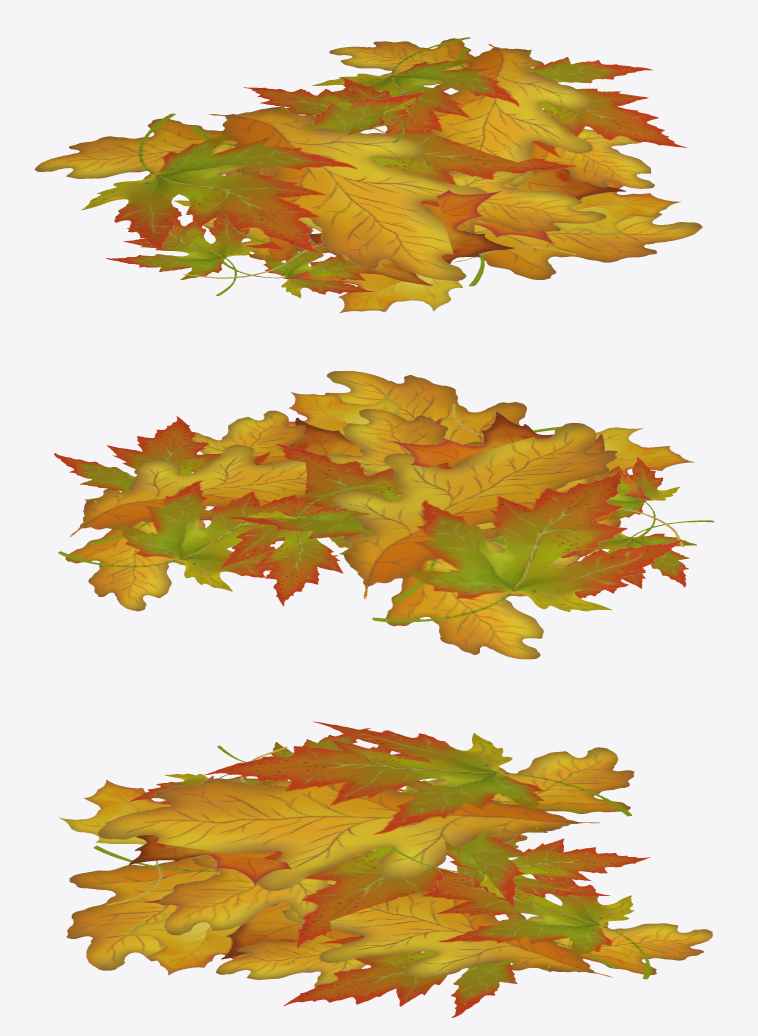
The model's file is dead_leaf_tas_petit.fbx.
The picture shows the model from 3 angles, top to bottom: view 1: azimuth 30°, elevation 25°; view 2: azimuth 150°, elevation 25°; view 3: azimuth 270°, elevation 25°; orthographic projection. The views are drawn at different scales.
Visible parts, largest first — view 1: dead_leaf_tas_petit; view 2: dead_leaf_tas_petit; view 3: dead_leaf_tas_petit.
Boxes of the visible parts, x1,y1,x2,y2 form: dead_leaf_tas_petit: (34,37,702,313); dead_leaf_tas_petit: (54,370,714,659); dead_leaf_tas_petit: (59,721,712,1017).
Bounding box in the file's own units: 73.72 × 4.38 × 67.9.
